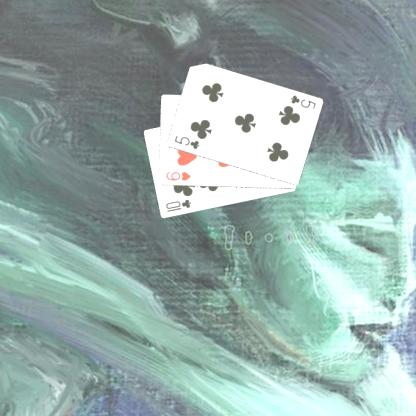10C: (163, 197, 193, 214)
5C: (287, 92, 317, 111), (171, 133, 201, 151)
6H: (163, 169, 192, 182)
